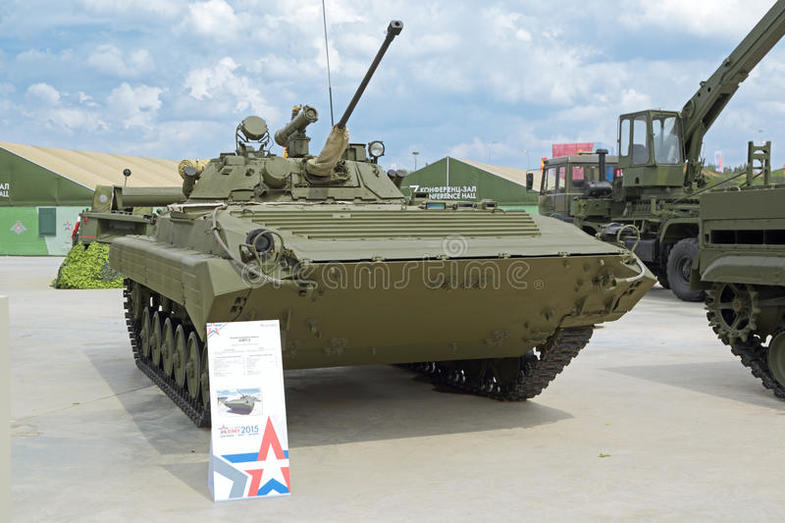bmp: (130, 94, 620, 400)
